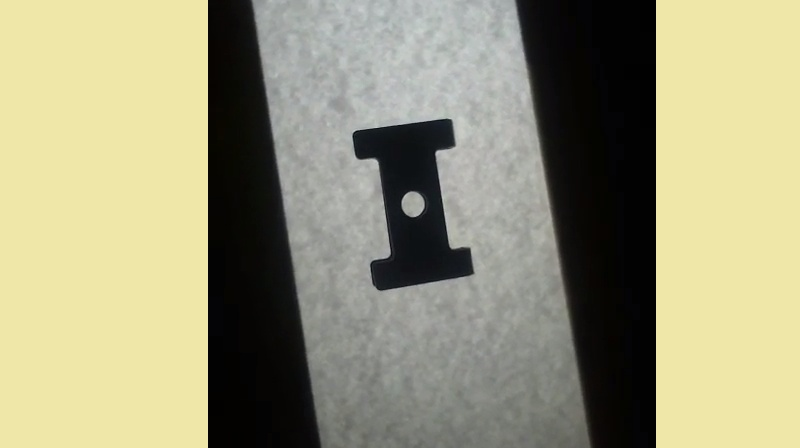O002: (350, 115, 475, 293)
